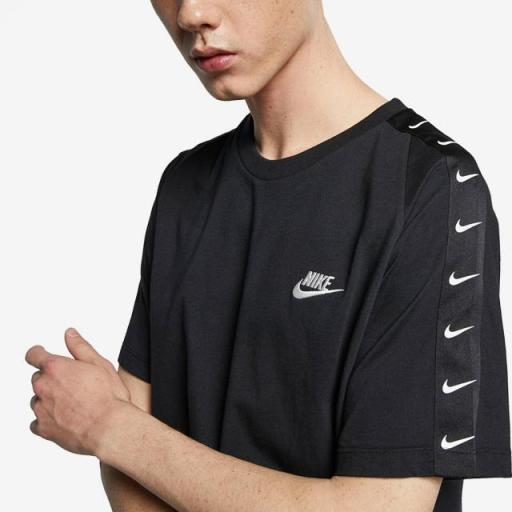Nike: (299, 272, 337, 292), (443, 323, 478, 341)
